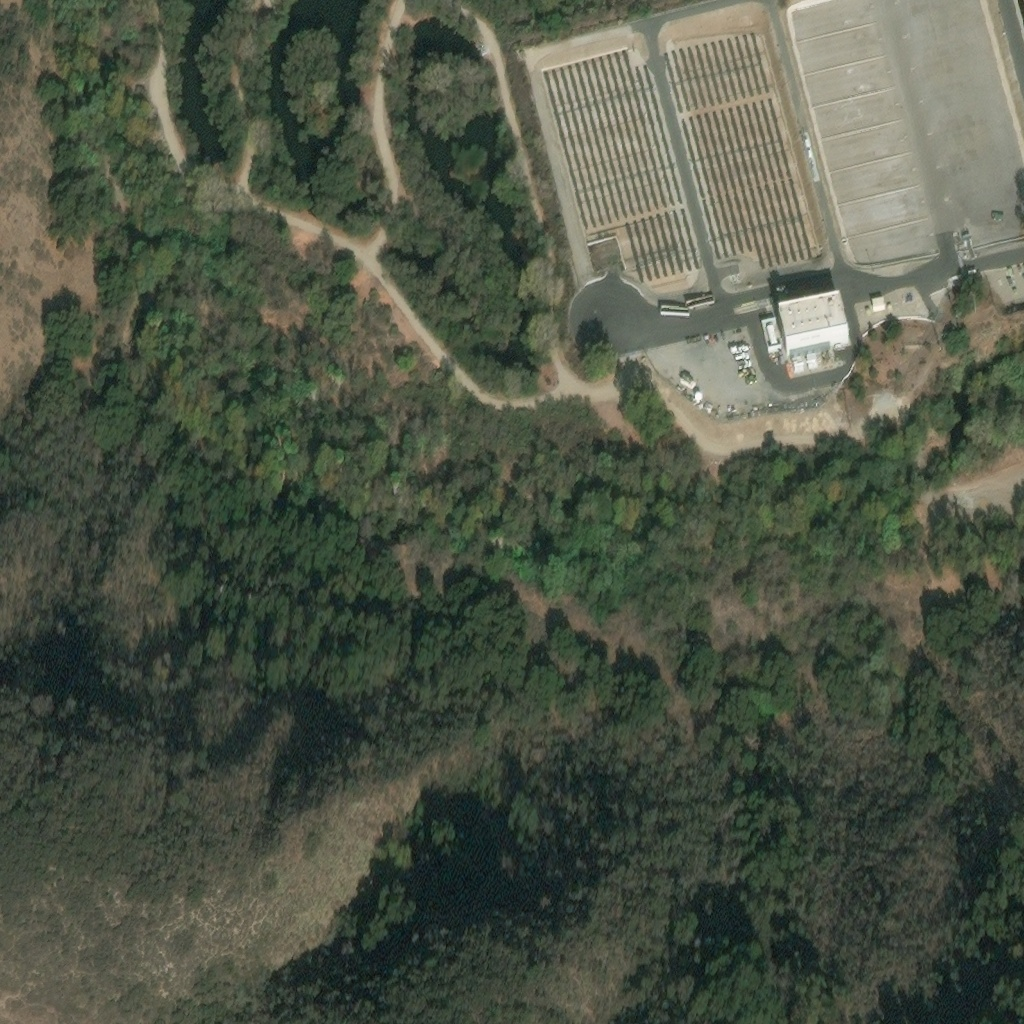0 no-damage: (540, 48, 703, 287), (660, 30, 817, 272), (775, 297, 852, 361), (732, 287, 789, 315), (760, 320, 783, 354), (871, 300, 886, 314)
